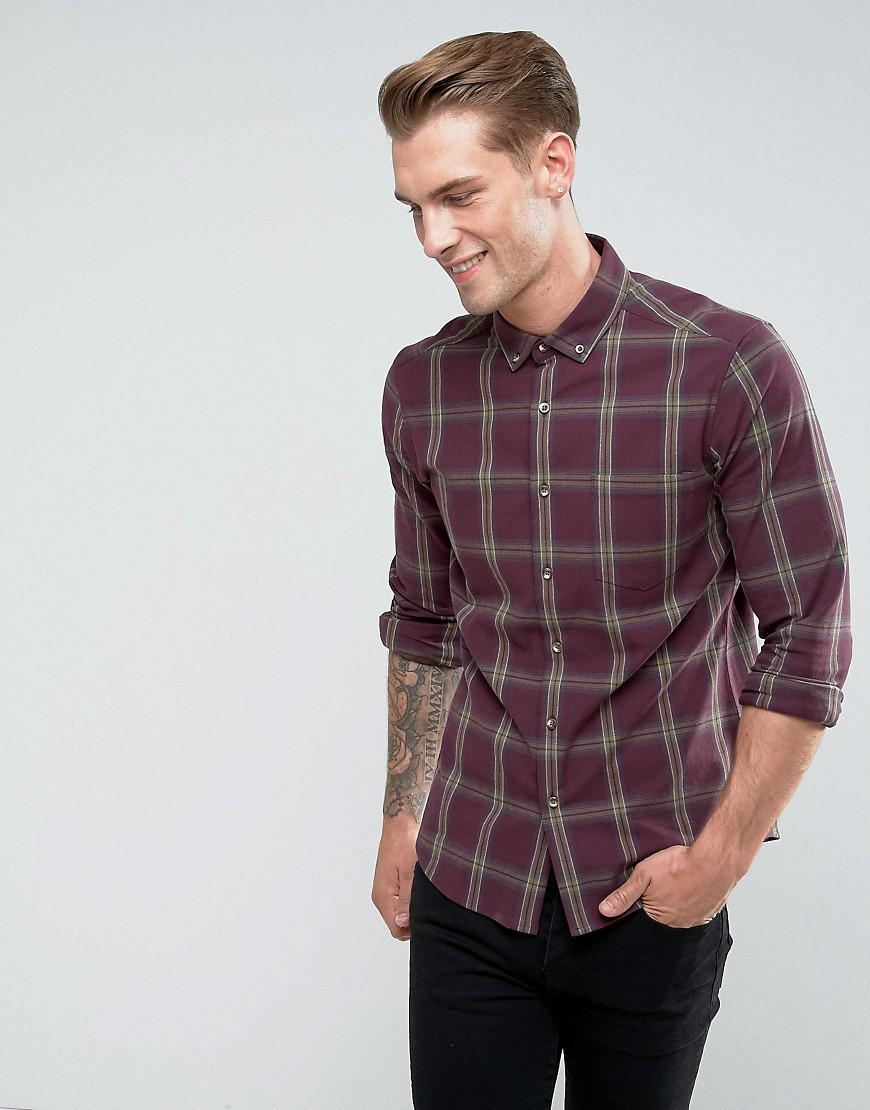teeshirt: (356, 266, 859, 932)
